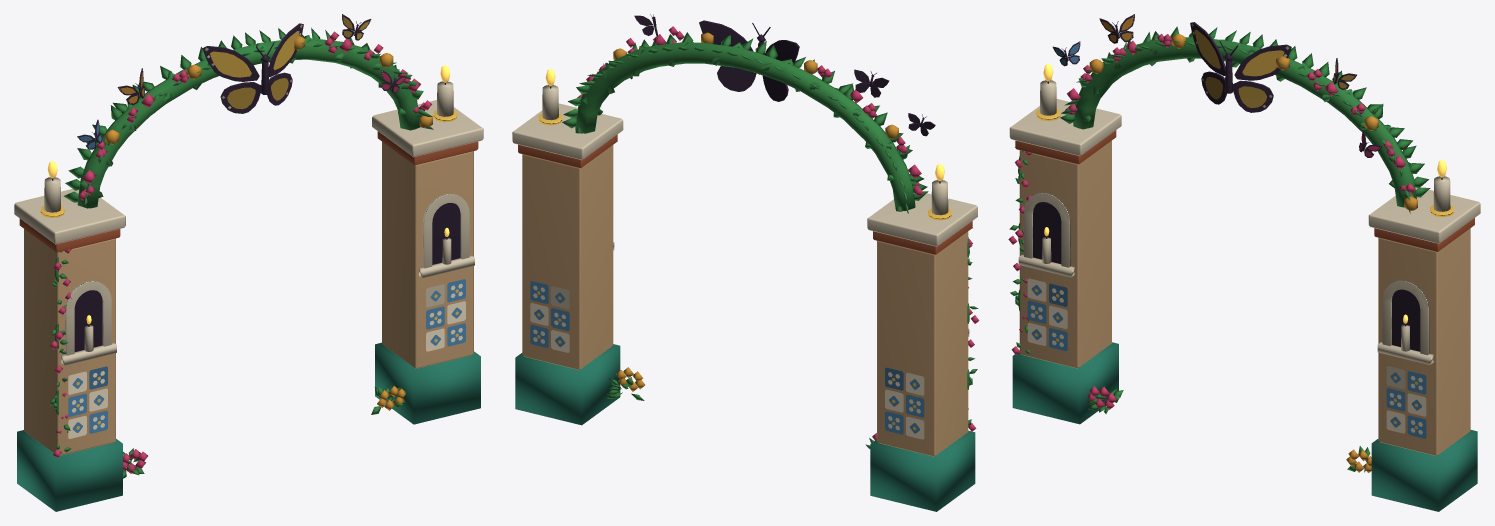
File: butterfly-arch.glb
3 renders of one model, left to right at view 1: azimuth 30°, elevation 25°; view 2: azimuth 150°, elevation 25°; view 3: azimuth 330°, elevation 25°, orthographic.
Parts seen in each view (by area): view 1: butterfly-arch; view 2: butterfly-arch; view 3: butterfly-arch.
Part boxes in pixels (x1=…): butterfly-arch: x1=14, y1=14, x2=483, y2=511; butterfly-arch: x1=512, y1=14, x2=979, y2=511; butterfly-arch: x1=1008, y1=14, x2=1480, y2=511.
Bounding box in the file's own units: 3.48 × 3.19 × 0.587.
